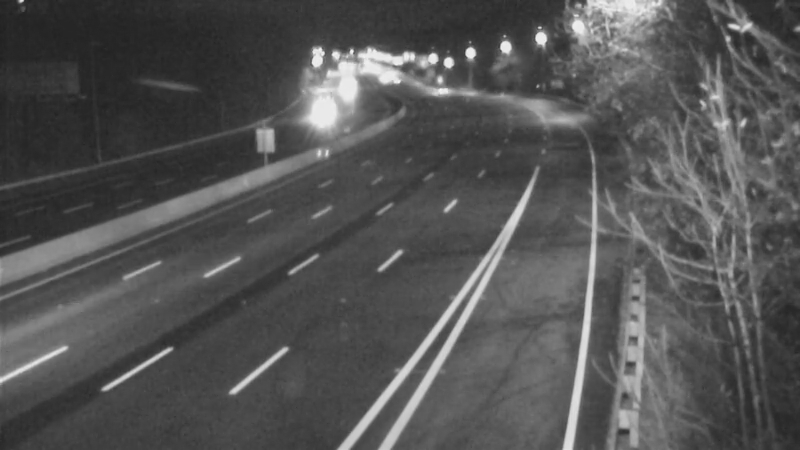vehicle: (415, 65, 465, 115), (302, 89, 352, 139), (324, 67, 374, 117)
